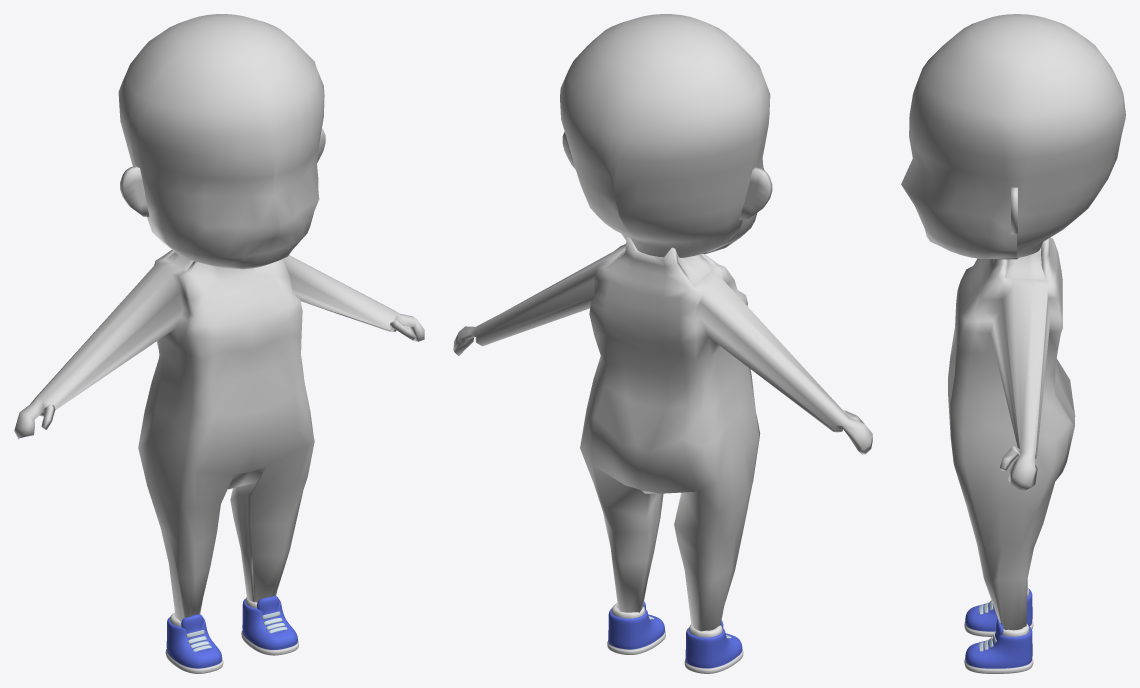
Rendered from karakter_KOMIK.fbx.
3 renders of one model, left to right at view 1: azimuth 30°, elevation 25°; view 2: azimuth 150°, elevation 25°; view 3: azimuth 270°, elevation 25°, orthographic. The views are drawn at different scales.
Visible parts, largest first — view 1: Cube, Sphere, Shoe.001, Shoe, Plane; view 2: Cube, Sphere, Shoe, Shoe.001, Plane; view 3: Sphere, Cube, Shoe.001, Shoe.
Boxes of the visible parts, x1,y1,x2,y2 form: Cube: (14, 250, 424, 621); Sphere: (118, 14, 324, 269); Shoe.001: (241, 598, 298, 655); Shoe: (165, 617, 223, 673); Plane: (120, 166, 149, 216); Cube: (453, 236, 872, 631); Sphere: (560, 14, 770, 257); Shoe: (684, 627, 743, 673); Shoe.001: (607, 606, 665, 654); Plane: (739, 167, 772, 219); Sphere: (901, 14, 1125, 259); Cube: (948, 237, 1075, 630); Shoe.001: (964, 625, 1033, 673); Shoe: (964, 588, 1033, 636).
Size of the model in its own units: 299 by 434 by 142.
